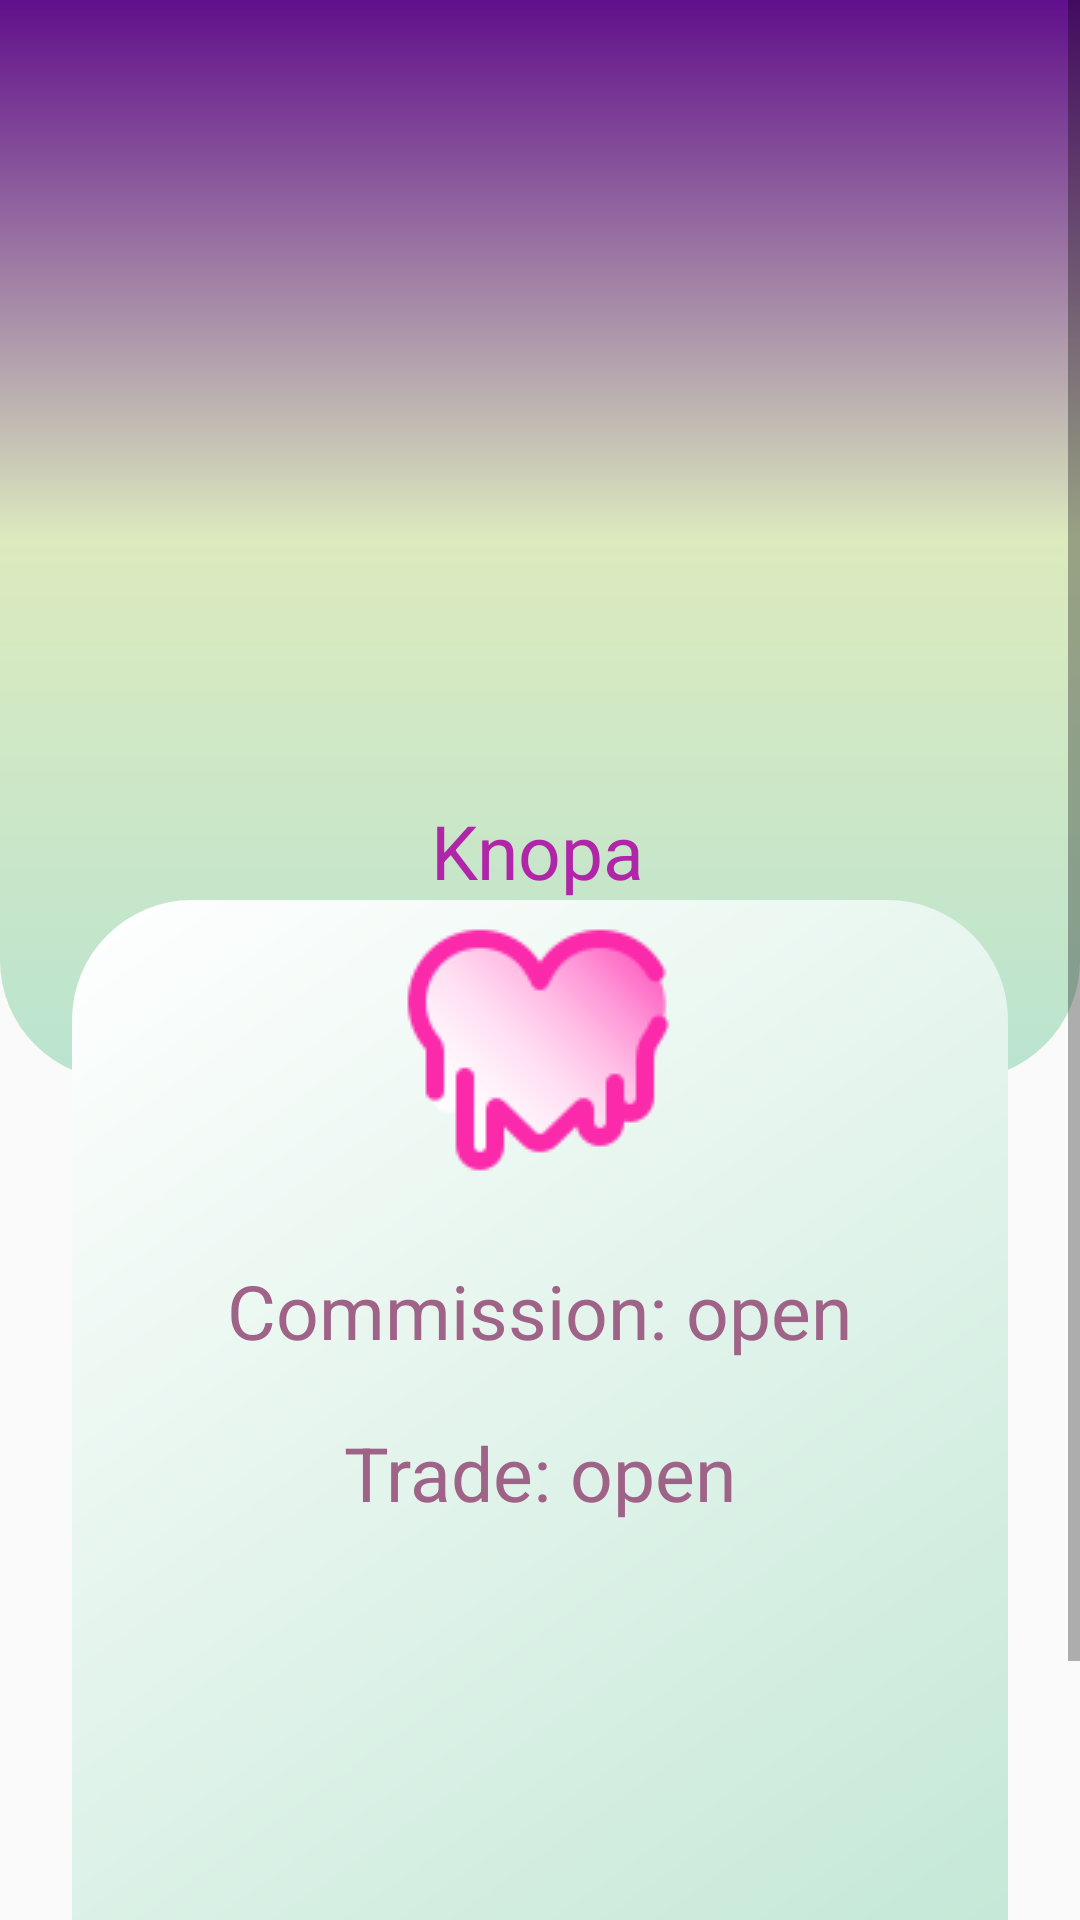

Locate icon controls on the screen. Image size 1080*1920, boxes as {"x1": x1, "y1": y1, "x2": x2, "y2": y2}.
heart: {"x1": 407, "y1": 929, "x2": 670, "y2": 1171}
